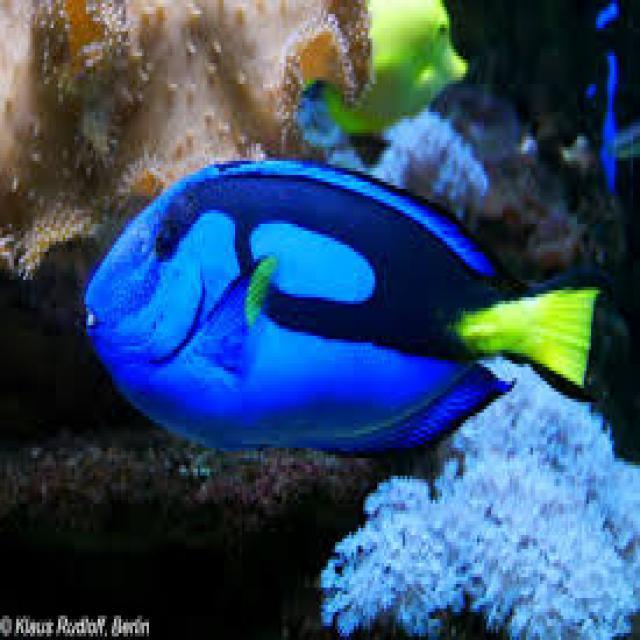YellowTang: (282, 0, 472, 138)
